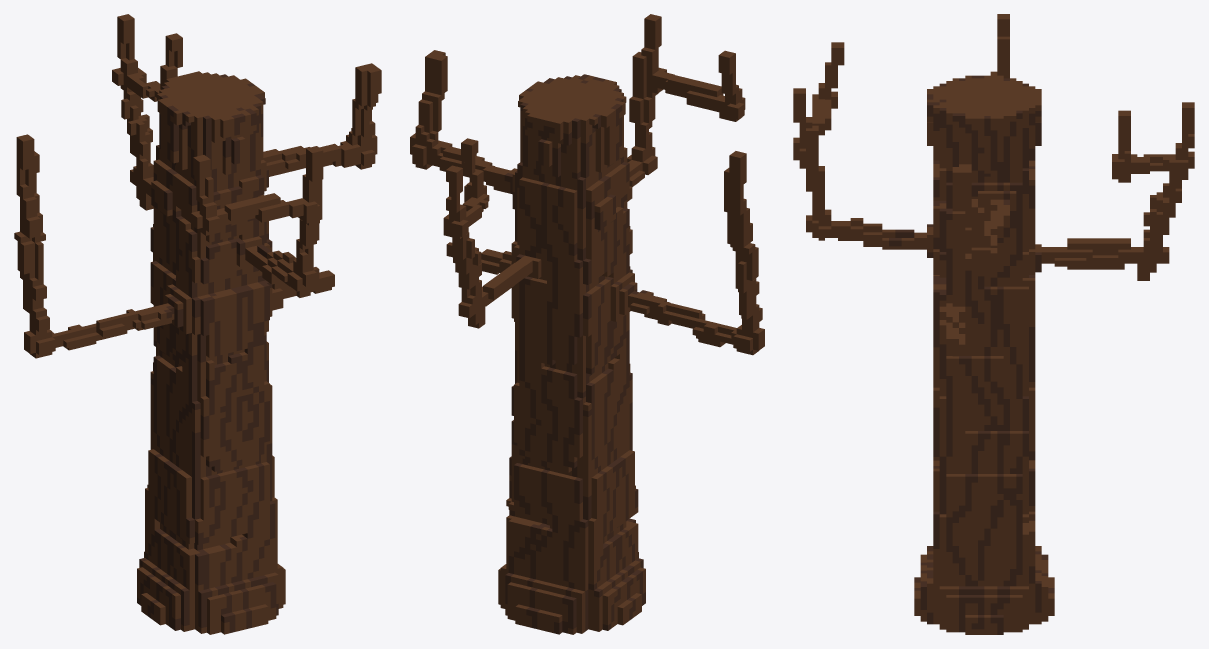
Rendered from trunk_4.dae.
The picture shows the model from 3 angles, left to right: view 1: azimuth 30°, elevation 25°; view 2: azimuth 150°, elevation 25°; view 3: azimuth 270°, elevation 25°; orthographic projection.
Visible parts, largest first — view 1: trunk_4; view 2: trunk_4; view 3: trunk_4.
Part boxes in pixels (x1,y1,x2,y2): trunk_4: (14,14,381,634); trunk_4: (410,14,764,634); trunk_4: (793,14,1194,634).
Size of the model in its own units: 6.3 by 6.3 by 9.
Materials: 1 (1 with a texture image).
